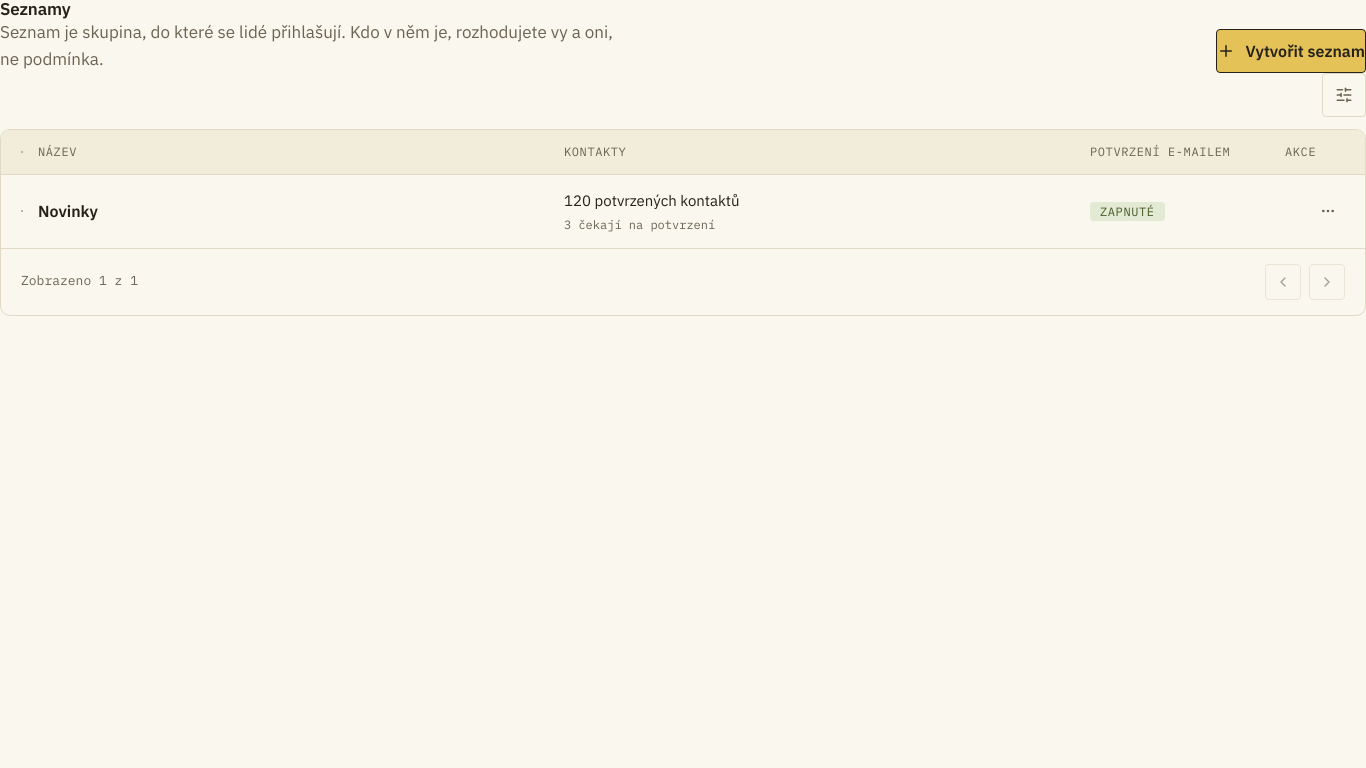
Scenario: nabídka „…" v řádku seznamu › vynechané kontakty se v hlášce přiznají
Click the button named "Další akce se seznamem": (1328, 211) left=1311, top=194, right=1345, bottom=228
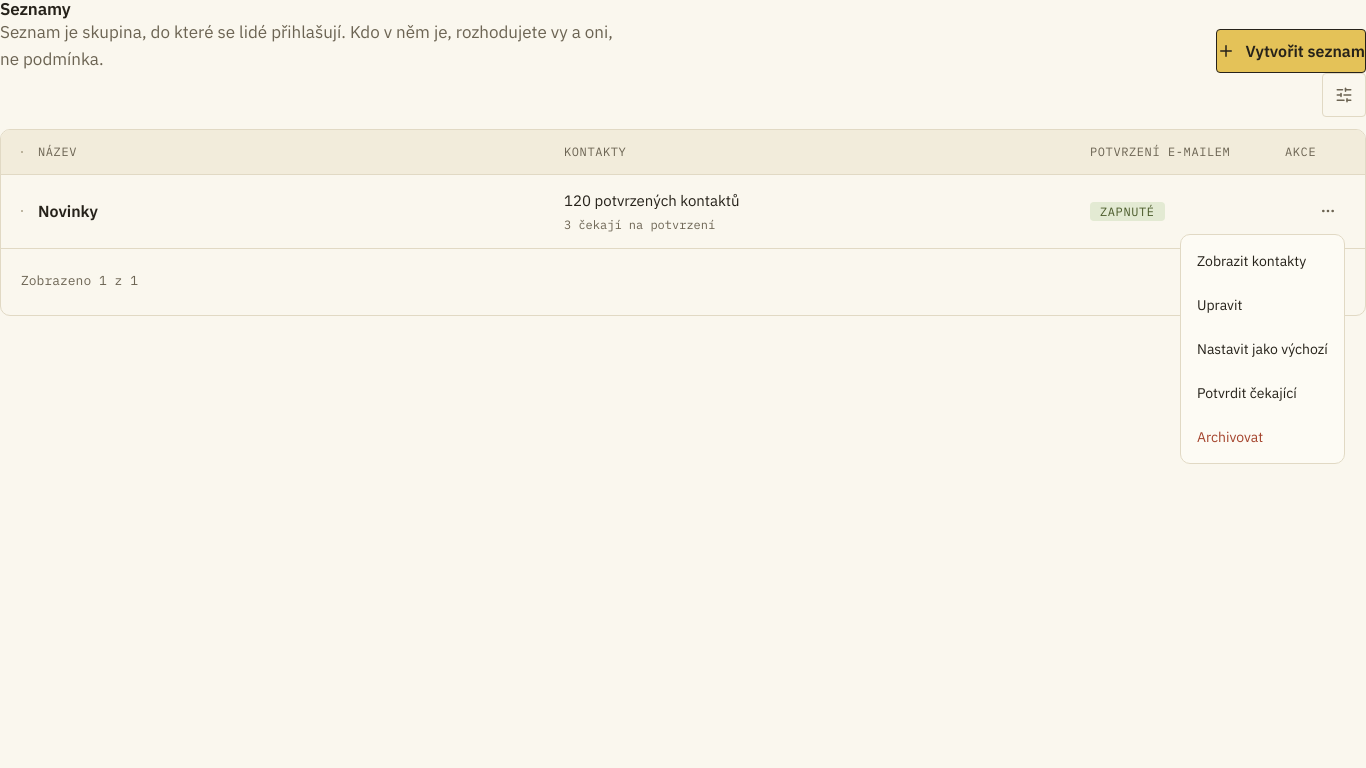
Click the menu item "Potvrdit čekající": (1247, 393) left=1197, top=384, right=1297, bottom=402
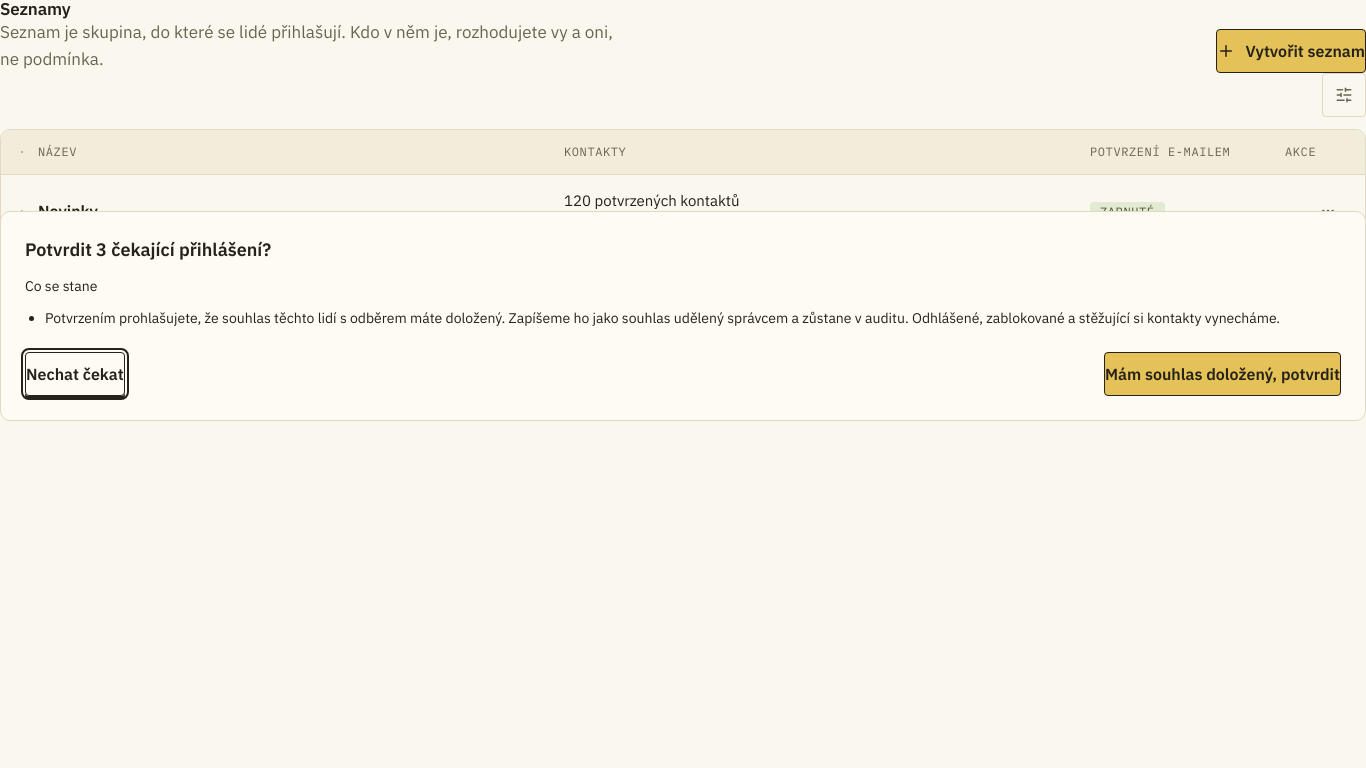
Click the button "Mám souhlas doložený, potvrdit": (1222, 374) left=1104, top=352, right=1341, bottom=396
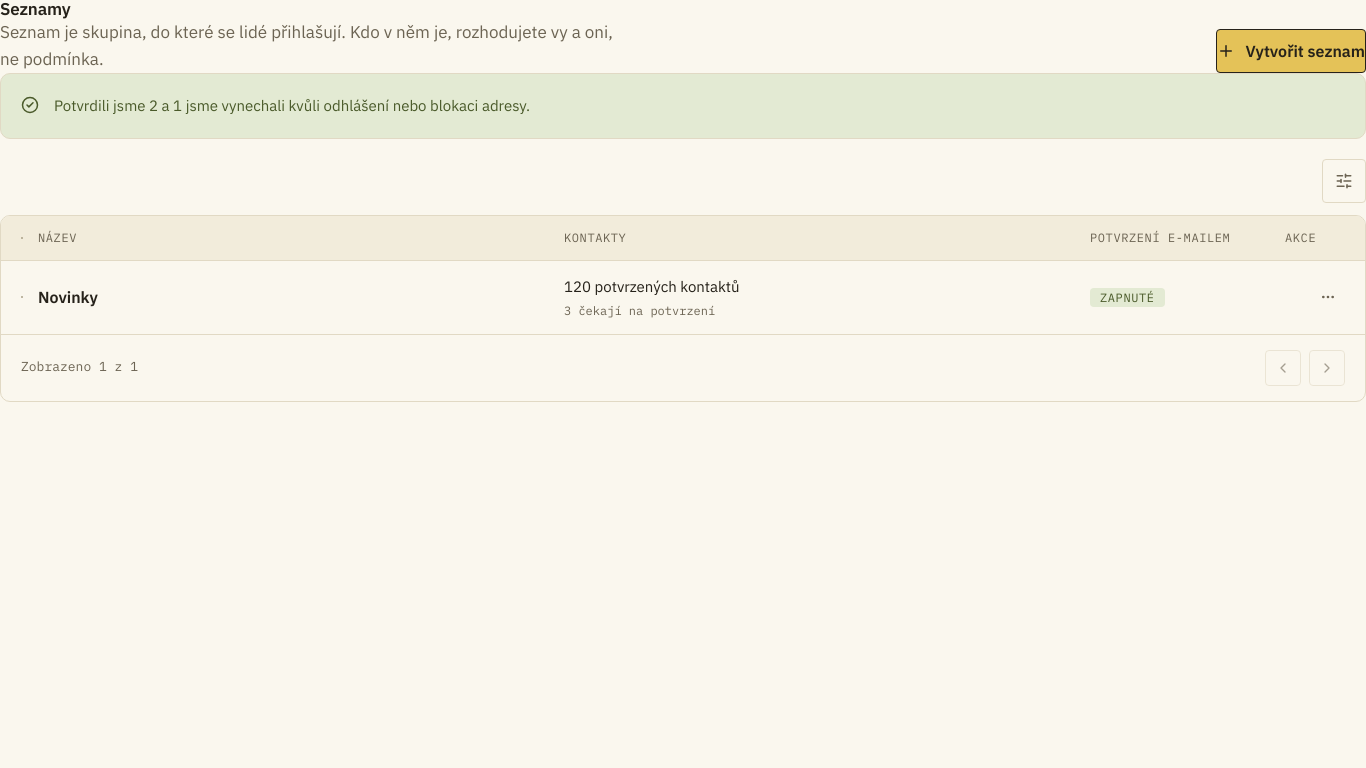
Expected: the message with test id "lists-notice" shows "Potvrdili jsme 2 a 1 jsme vynechali", left=54, top=96, right=530, bottom=115
